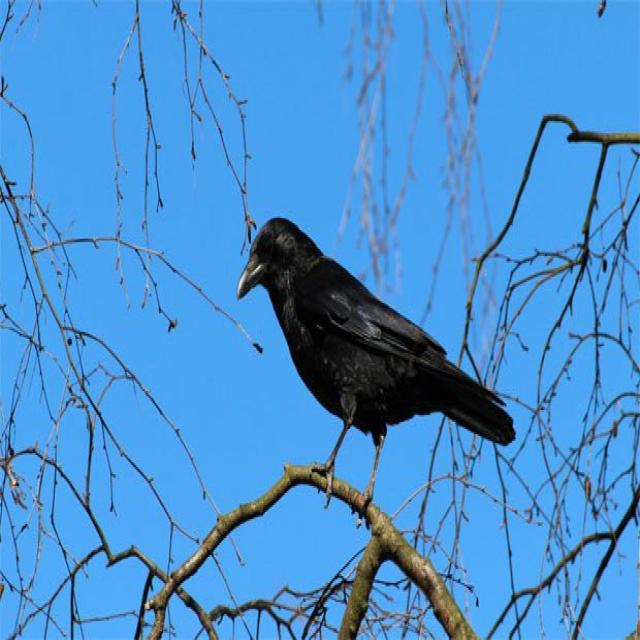crow: (224, 165, 390, 435)
